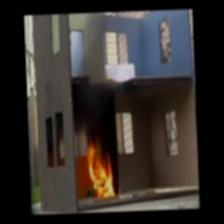fire: (84, 142, 117, 196)
smoke: (75, 79, 119, 138)
